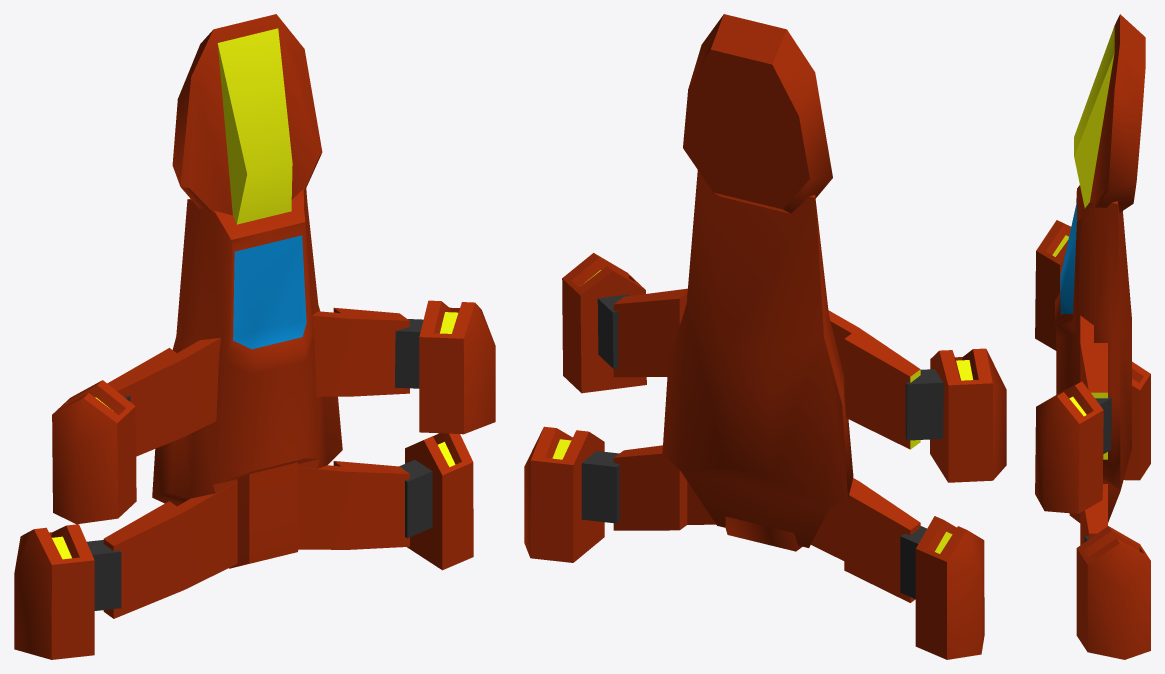
The model's file is Admiral.fbx.
3 views of the same model, side by side, from view 1: azimuth 30°, elevation 25°; view 2: azimuth 150°, elevation 25°; view 3: azimuth 270°, elevation 25° (orthographic). The views are drawn at different scales.
Parts seen in each view (by area): view 1: Admiral; view 2: Admiral; view 3: Admiral.
Boxes of the visible parts, x1=… form: Admiral: x1=14, y1=14, x2=495, y2=659; Admiral: x1=524, y1=14, x2=1006, y2=659; Admiral: x1=1035, y1=14, x2=1150, y2=659.
Size of the model in its own units: 82.74 by 99.47 by 19.75.
